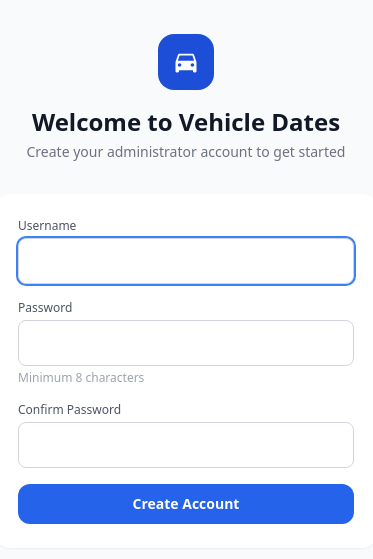
Test case: SetupPage › displays a server error message when setup fails
This screenshot has width=373, height=559.
Type "admin" into the field labelled "Username".
click(186, 261); type("admin")  # box [18,238,354,284]
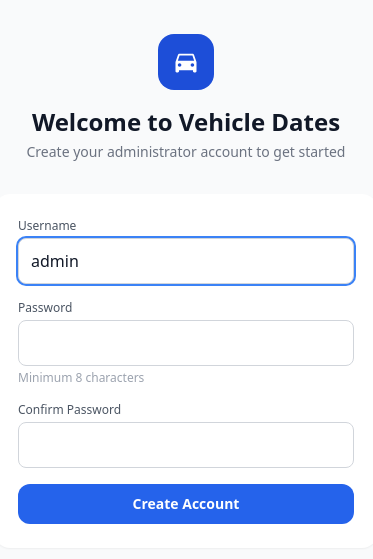
Type "password123" into the password field labelled "Password".
click(186, 343); type("password123")  # box [18,320,354,366]
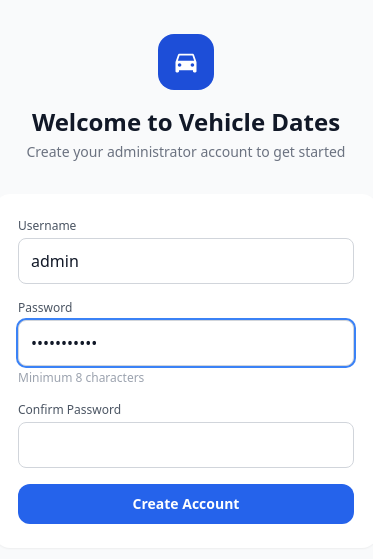
Type "password123" into the password field labelled "Confirm Password".
click(186, 445); type("password123")  # box [18,422,354,468]
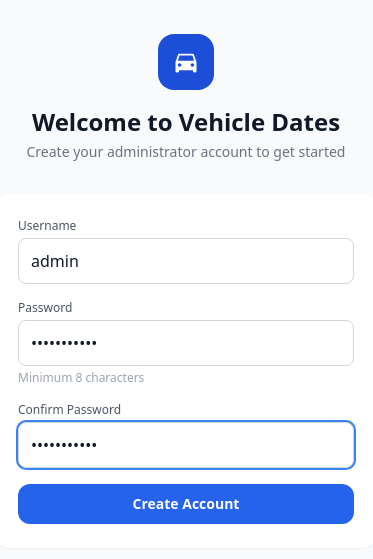
Click the button "Create Account".
click(186, 504)  # box [18,484,354,524]
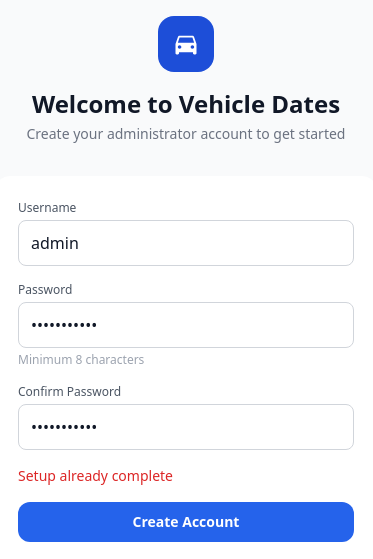
Check: the text "Setup already complete" is shown, box [18,466,173,485]
